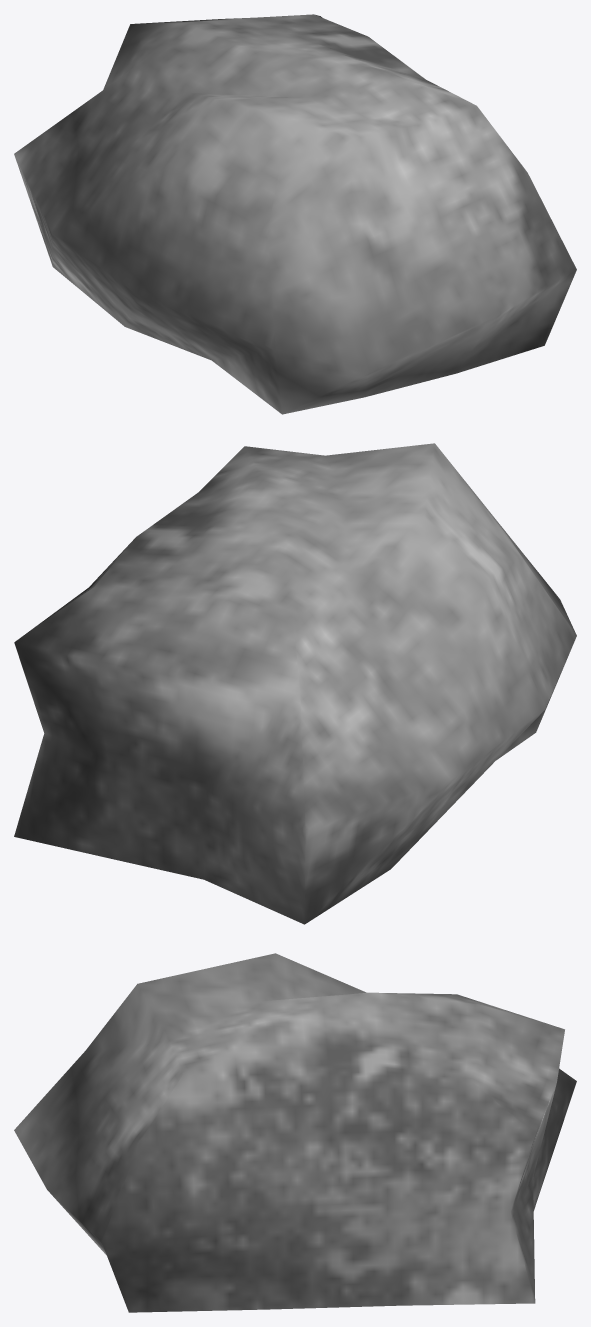
Rendered from Small stone 1.fbx.
The picture shows the model from 3 angles, top to bottom: view 1: azimuth 30°, elevation 25°; view 2: azimuth 150°, elevation 25°; view 3: azimuth 270°, elevation 25°; orthographic projection. The views are drawn at different scales.
Parts seen in each view (by area): view 1: Small stone 1; view 2: Small stone 1; view 3: Small stone 1.
Boxes of the visible parts, left/top/right/bottom form: Small stone 1: left=14, top=14, right=576, bottom=414; Small stone 1: left=14, top=443, right=576, bottom=924; Small stone 1: left=14, top=953, right=576, bottom=1312.
Size of the model in its own units: 0.104 by 0.0723 by 0.1445.
